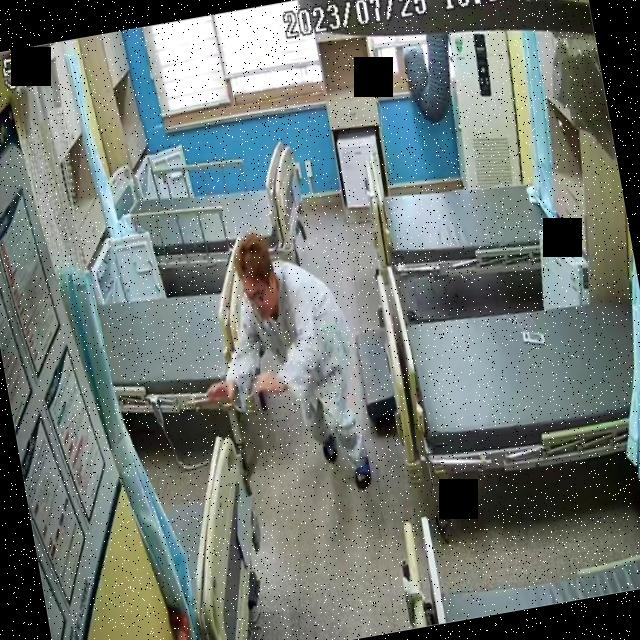bed: (397, 273, 640, 485), (89, 233, 288, 437), (106, 136, 309, 288), (364, 142, 563, 293)
danger: (210, 217, 380, 508)
patient: (211, 219, 379, 506)
